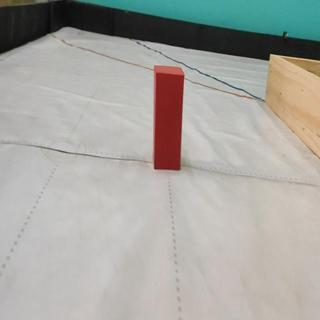redbox: (152, 63, 185, 170)
